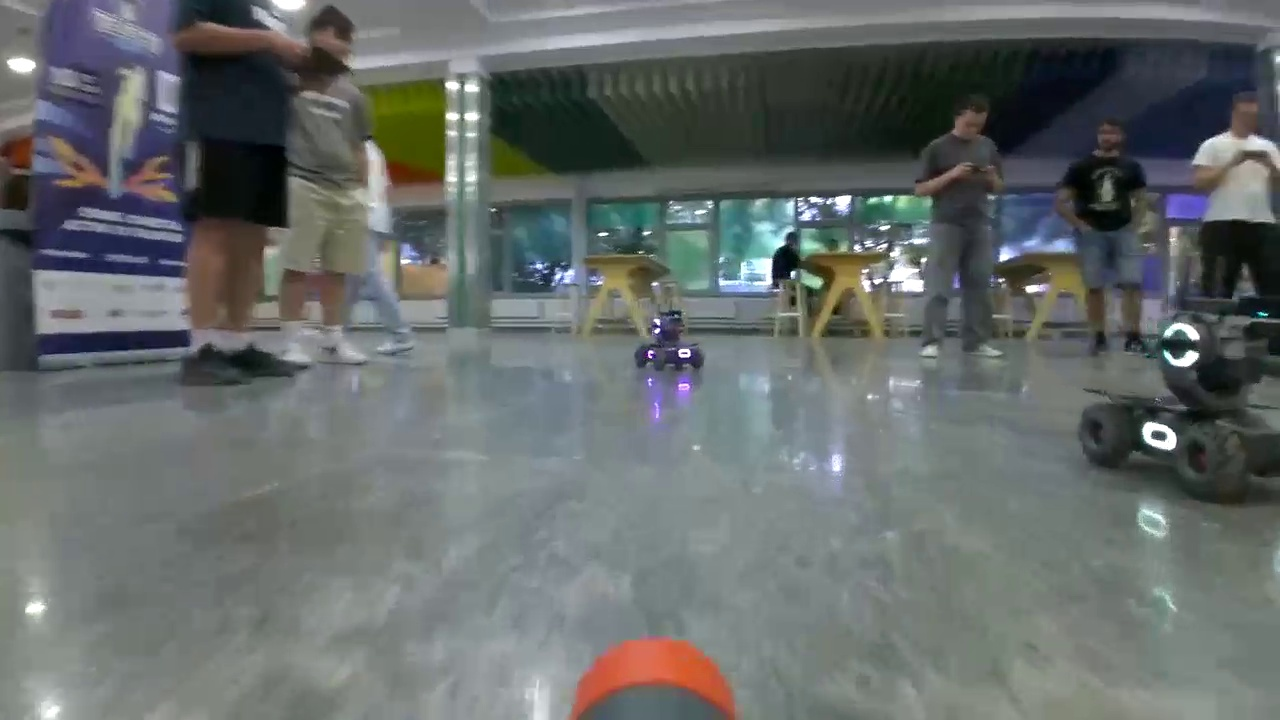robot: (1075, 304, 1280, 499), (635, 310, 706, 369)
